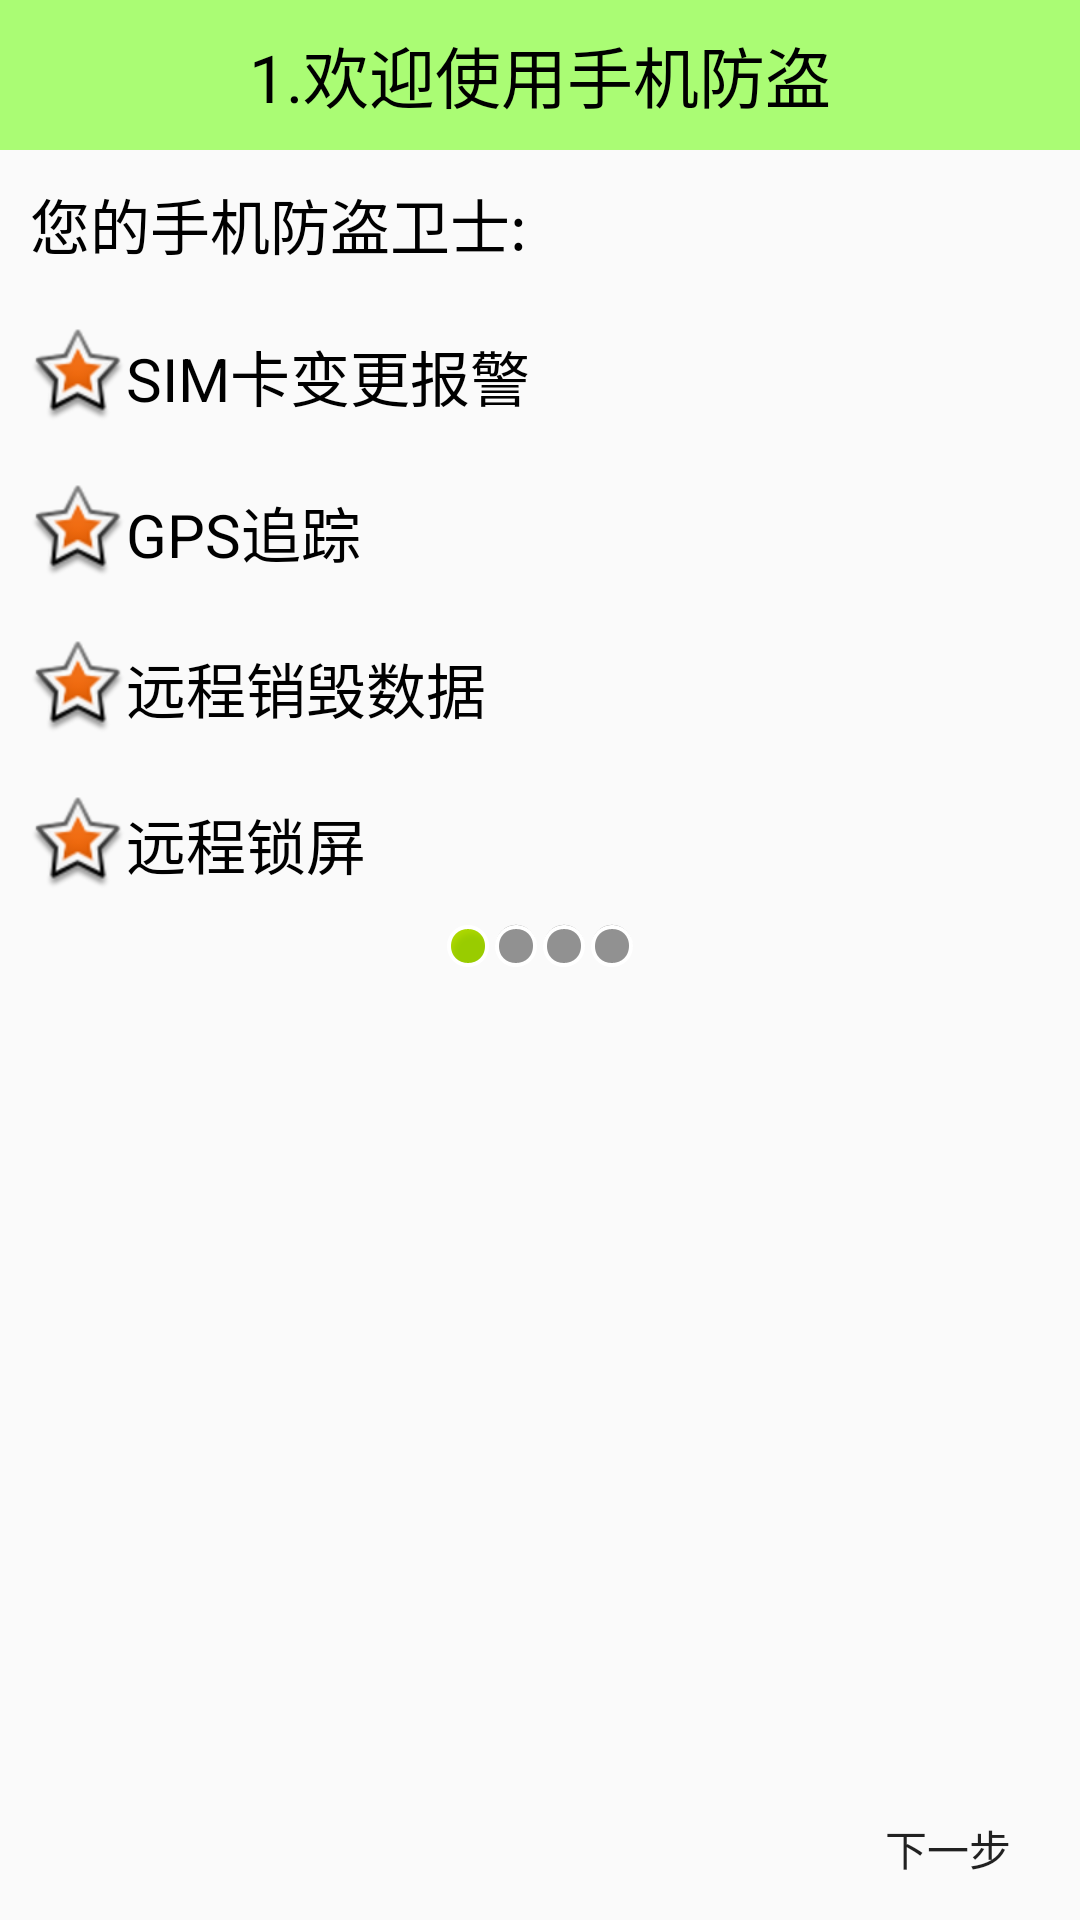

Named icons in this screenshot (1080px x 1920px) and their centers, (x,y):
presence invisible: (516,944), (564,944), (612,944)
presence online: (468,946)
